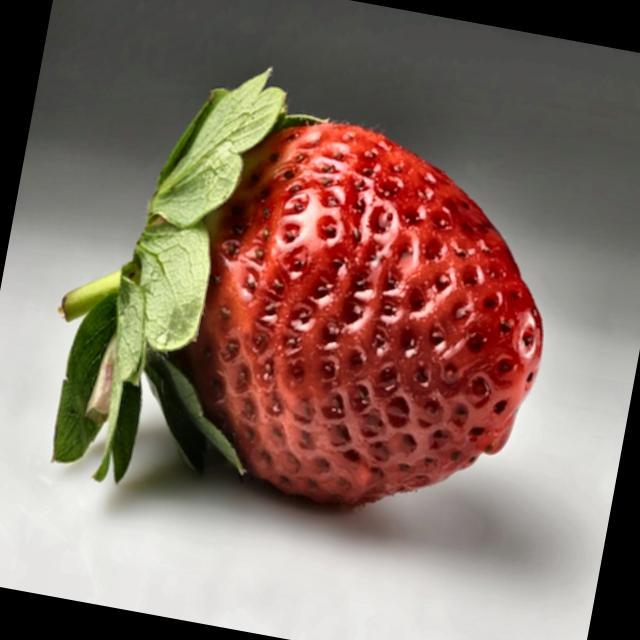strawberry: (54, 70, 542, 503)
